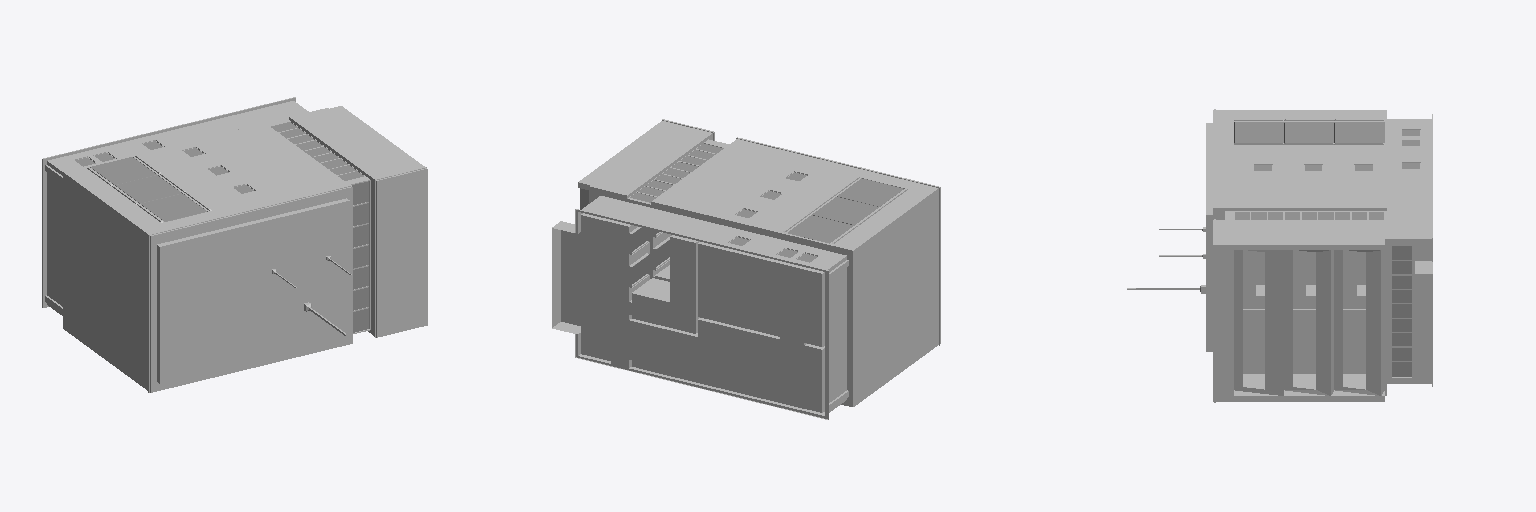
The model's file is Building2.obj.
3 views of the same model, side by side, from view 1: azimuth 30°, elevation 25°; view 2: azimuth 150°, elevation 25°; view 3: azimuth 270°, elevation 25° (orthographic).
Parts seen in each view (by area): view 1: Residential_Buildings_002_Cube.012; view 2: Residential_Buildings_002_Cube.012; view 3: Residential_Buildings_002_Cube.012.
Part boxes in pixels (bbox=[...]): Residential_Buildings_002_Cube.012: bbox=[42, 97, 427, 392]; Residential_Buildings_002_Cube.012: bbox=[552, 119, 940, 419]; Residential_Buildings_002_Cube.012: bbox=[1127, 109, 1432, 402].
Size of the model in its own units: 23.1 by 12.59 by 21.99.